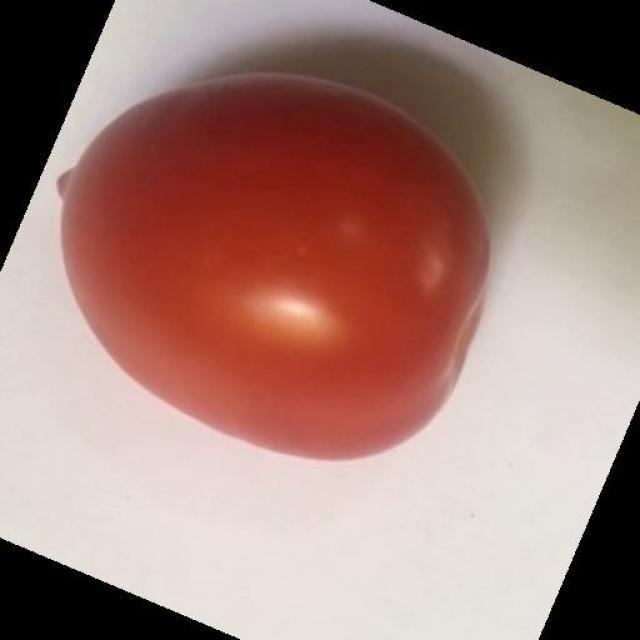Fresh Tomato: (28, 62, 496, 467)
